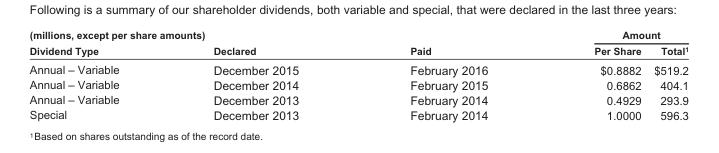table: (28, 28, 687, 121)
table column: (353, 28, 540, 121), (28, 28, 208, 121), (208, 28, 353, 121), (540, 28, 646, 121), (646, 28, 687, 121)
table column header: (28, 28, 687, 58)
table row: (28, 58, 687, 76), (28, 42, 687, 58), (28, 91, 687, 107), (28, 76, 687, 91), (28, 28, 687, 42), (28, 107, 687, 121)
table spanning cell: (353, 28, 540, 58), (28, 28, 208, 58), (208, 28, 353, 58), (540, 28, 687, 42)
